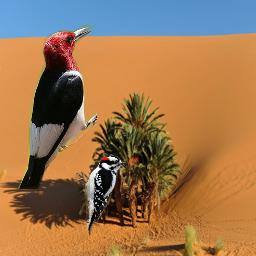Woodpecker: (16, 24, 97, 189), (73, 155, 127, 236)
